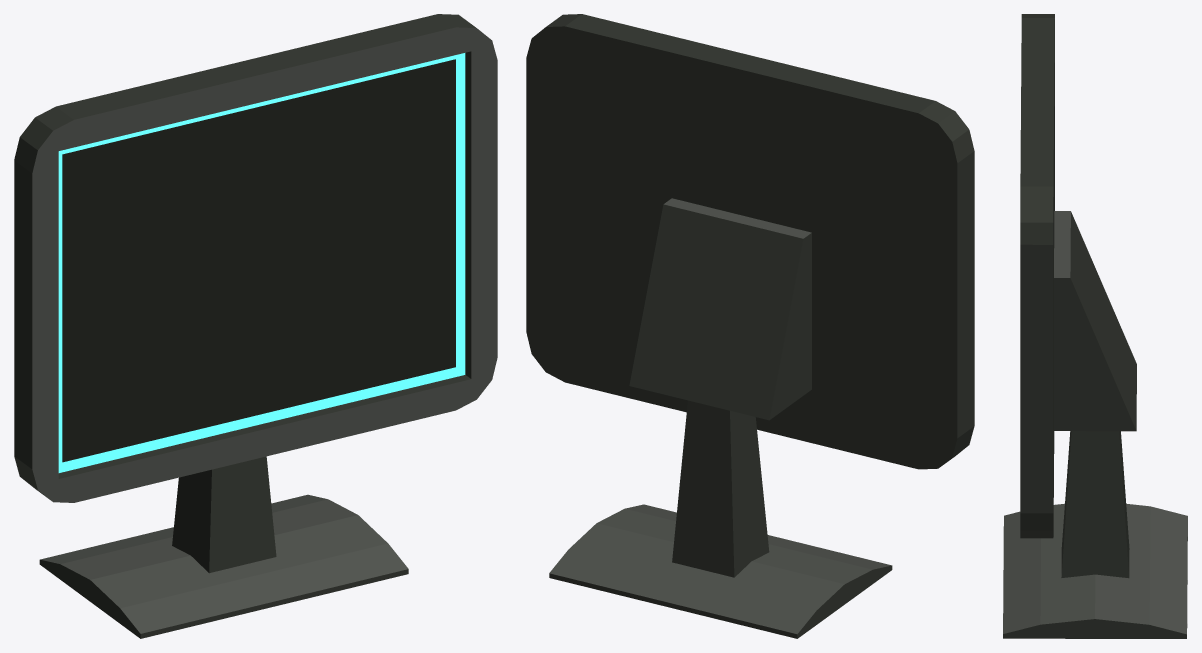
Rendered from Display_Monitor.glb.
3 views of the same model, side by side, from view 1: azimuth 30°, elevation 25°; view 2: azimuth 150°, elevation 25°; view 3: azimuth 270°, elevation 25° (orthographic). The views are drawn at different scales.
Parts seen in each view (by area): view 1: Display_Monitor; view 2: Display_Monitor; view 3: Display_Monitor.
Boxes of the visible parts, <box> form: Display_Monitor: <box>14,14,497,638</box>; Display_Monitor: <box>526,14,974,638</box>; Display_Monitor: <box>1003,14,1187,638</box>.
Size of what is drawn, in the model's own units: 0.738 by 0.7978 by 0.2803.
1 material, 1 textured.
